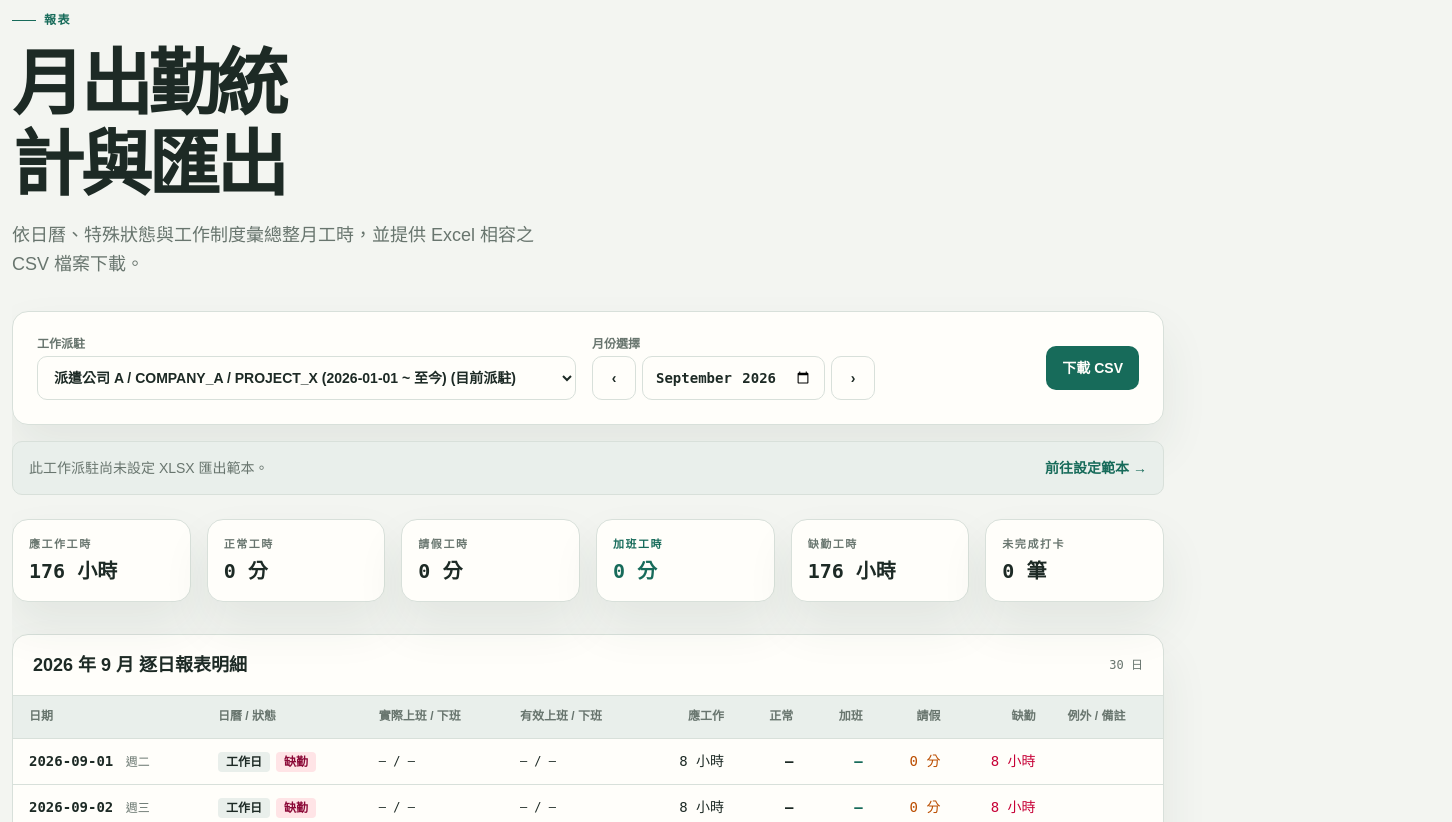
Test: ReportView › 切換月份時重新載入並更新逐日明細表格
Replace the text in the field with test id "month-input" with "2026-02": (734, 378) [642, 356, 825, 400]
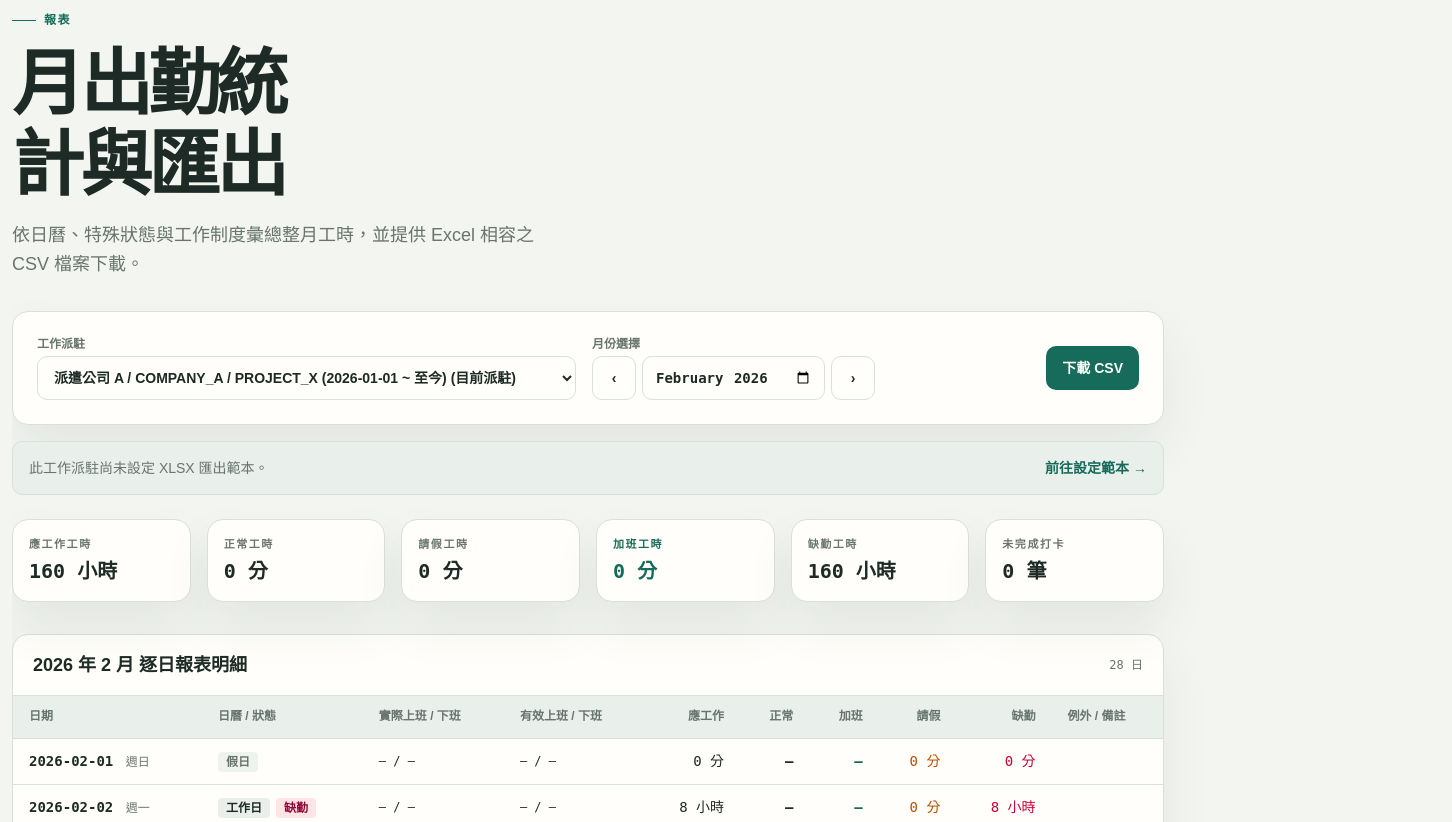
Now the text "2026 年 2 月" is shown, box [33, 655, 247, 675]
Now the number of rows with test id "report-row" is 28
